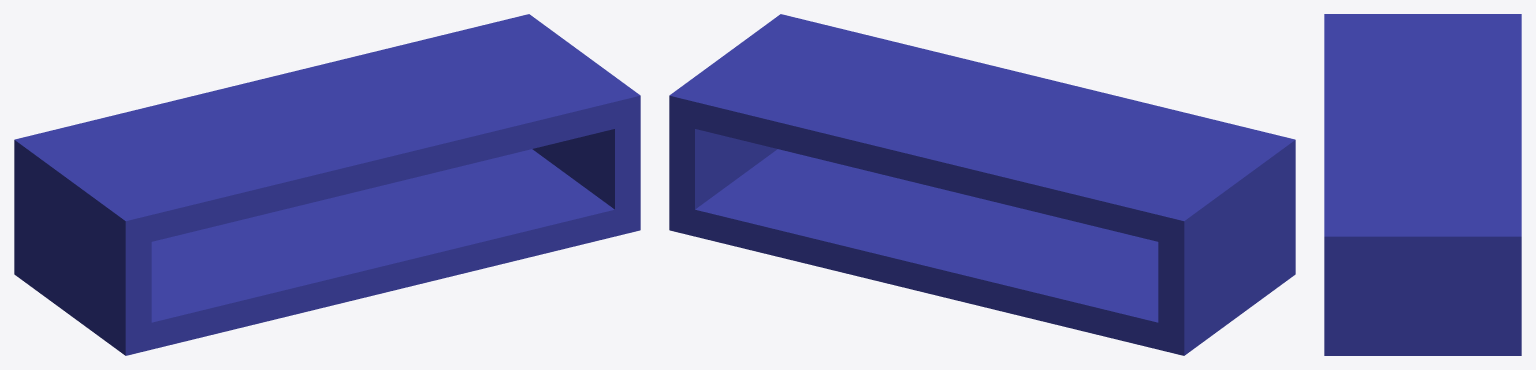
The model's file is entertainCenter_4x1x1-5.FBX.
3 views of the same model, side by side, from view 1: azimuth 30°, elevation 25°; view 2: azimuth 150°, elevation 25°; view 3: azimuth 270°, elevation 25° (orthographic). The views are drawn at different scales.
Visible parts, largest first — view 1: entertainCenter_4x1x1.5; view 2: entertainCenter_4x1x1.5; view 3: entertainCenter_4x1x1.5.
Boxes of the visible parts, x1=… form: entertainCenter_4x1x1.5: x1=14, y1=14, x2=640, y2=355; entertainCenter_4x1x1.5: x1=669, y1=14, x2=1295, y2=355; entertainCenter_4x1x1.5: x1=1324, y1=14, x2=1521, y2=355.
Bounding box in the file's own units: 4 × 1 × 1.5.
